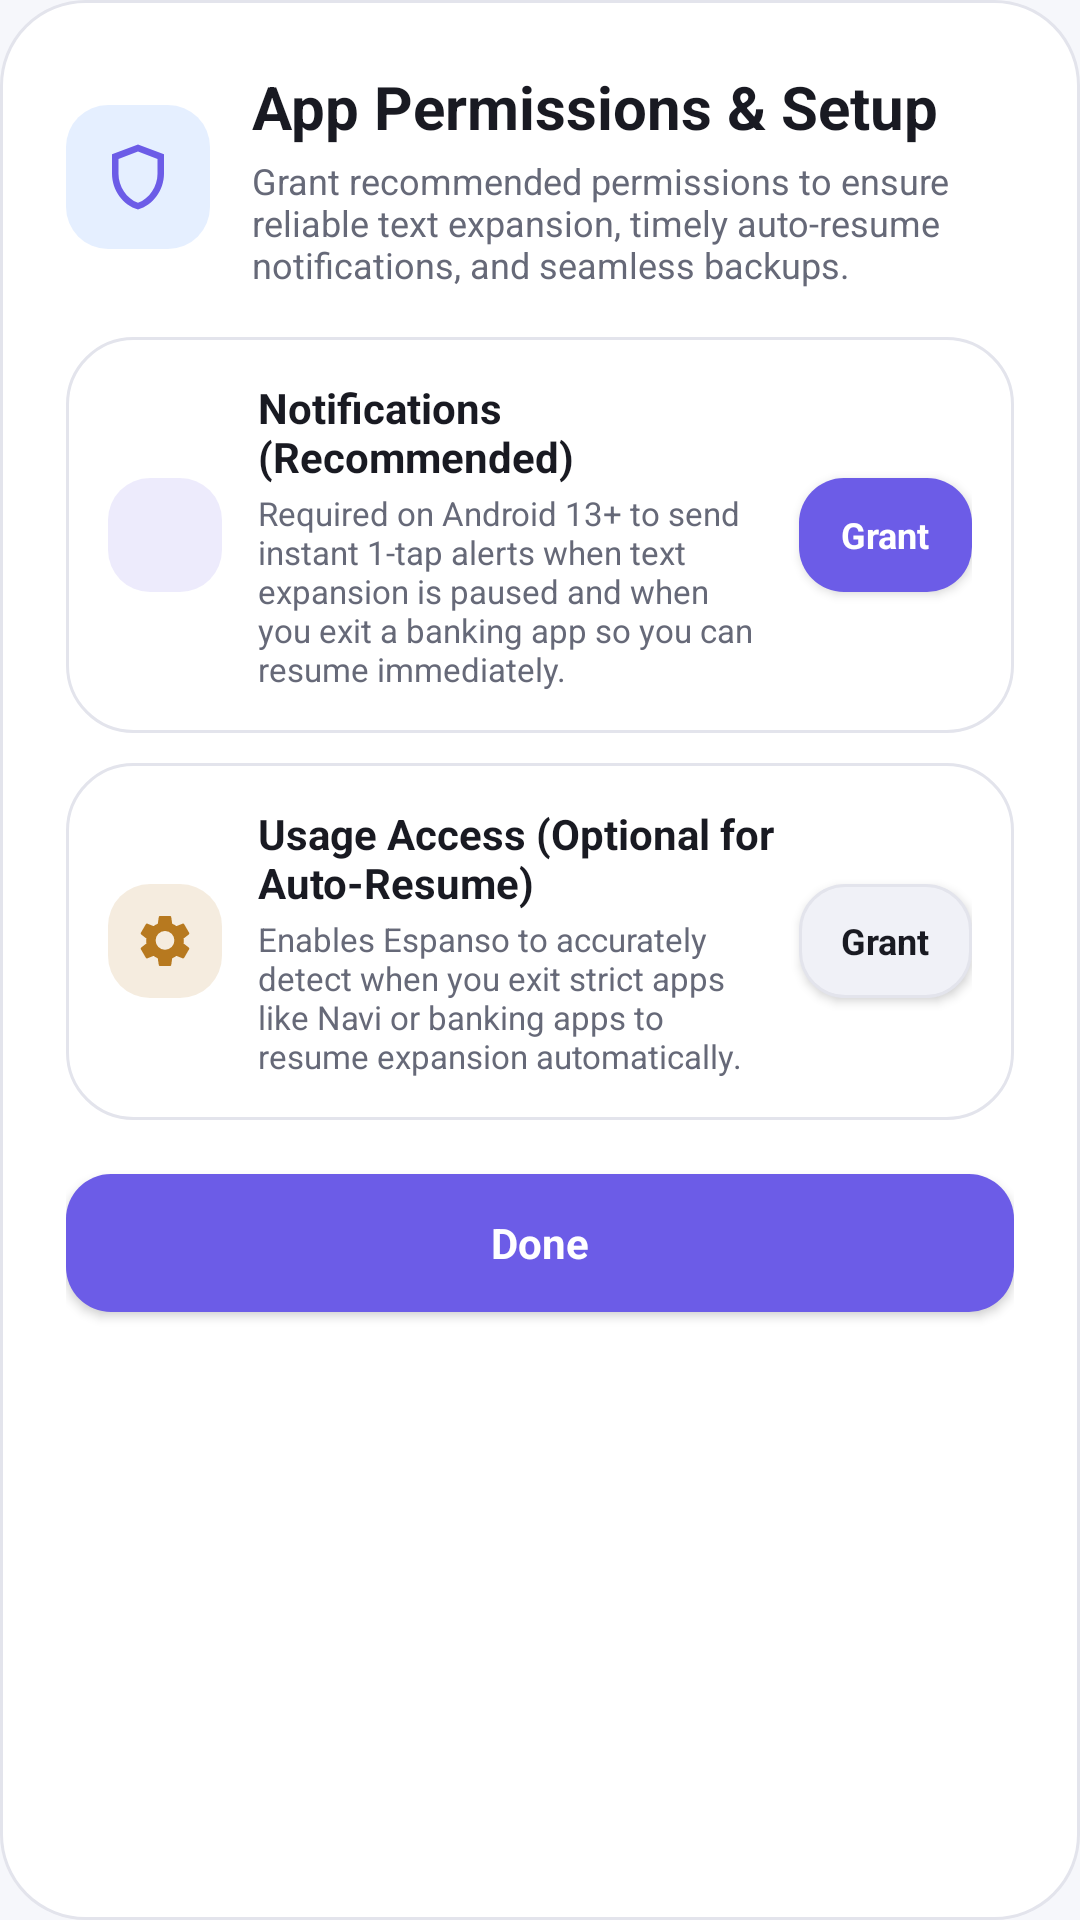

Screen size 1080 x 1920. Icon name, then its center in pixels as (x=x, y=y):
settings: (x=165, y=941)
shield: (x=138, y=177)
